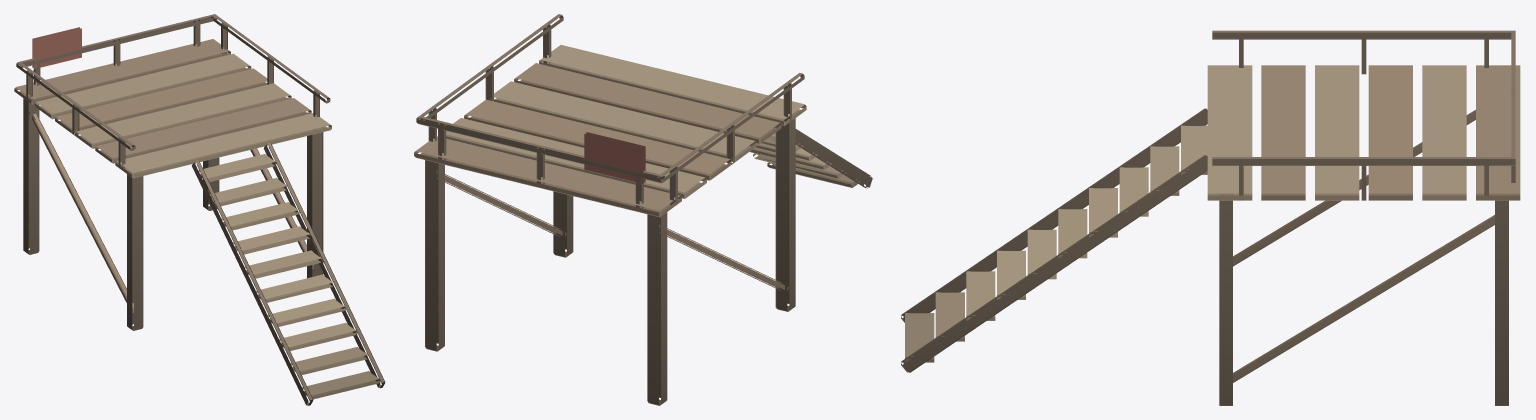
File: iv_platform.lod.glb
3 renders of one model, left to right at view 1: azimuth 30°, elevation 25°; view 2: azimuth 150°, elevation 25°; view 3: azimuth 270°, elevation 25°, orthographic. The views are drawn at different scales.
Visible parts, largest first — view 1: iv_platform; view 2: iv_platform; view 3: iv_platform.
Part boxes in pixels (left/top/right/bottom): iv_platform: left=14, top=14, right=385, bottom=405; iv_platform: left=414, top=14, right=872, bottom=405; iv_platform: left=901, top=30, right=1520, bottom=405.
Size of the model in its own units: 4 by 4.04 by 8.1.
